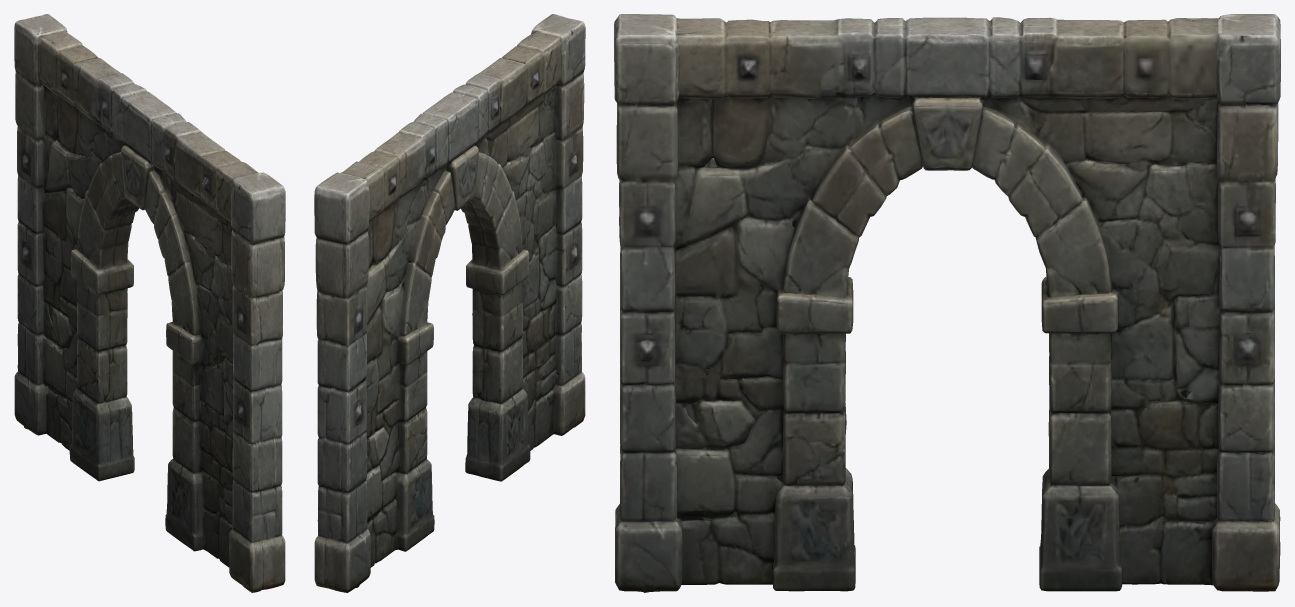
File: DungeonWall_Doorway_Arch_UnrealReady.glb
The picture shows the model from 3 angles, left to right: view 1: azimuth 30°, elevation 25°; view 2: azimuth 150°, elevation 25°; view 3: azimuth 270°, elevation 25°; orthographic projection. The views are drawn at different scales.
Parts seen in each view (by area): view 1: DungeonWall_Doorway_Arch; view 2: DungeonWall_Doorway_Arch; view 3: DungeonWall_Doorway_Arch.
Boxes of the visible parts, <box> form: DungeonWall_Doorway_Arch: <box>14,14,285,592</box>; DungeonWall_Doorway_Arch: <box>314,14,585,592</box>; DungeonWall_Doorway_Arch: <box>614,14,1280,592</box>.
Bounding box in the file's own units: 1.2 × 12 × 13.
1 material, 1 textured.
